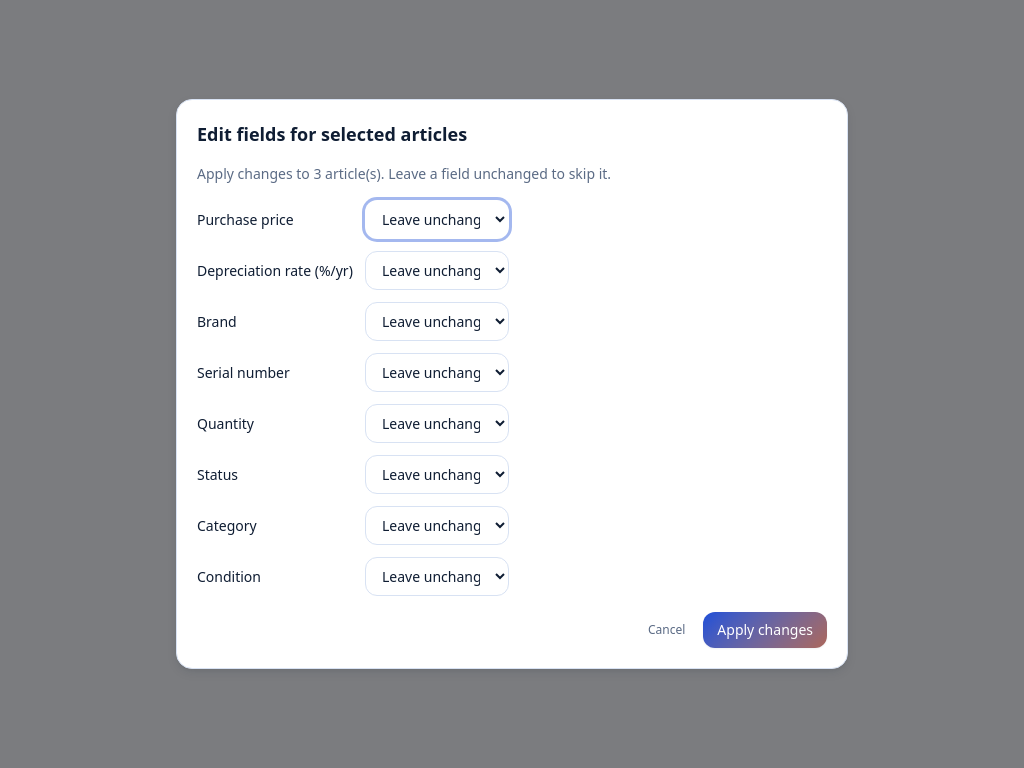
Test case: <BulkEditDialog /> › rejects a blank 'Set to…' field instead of silently writing 0
The image size is (1024, 768).
# Choose "Set to…" for purchase price but leave the value blank.
Select "Set to…" in the dropdown named "Purchase price operation" at (437, 220), box [365,200,509,239]
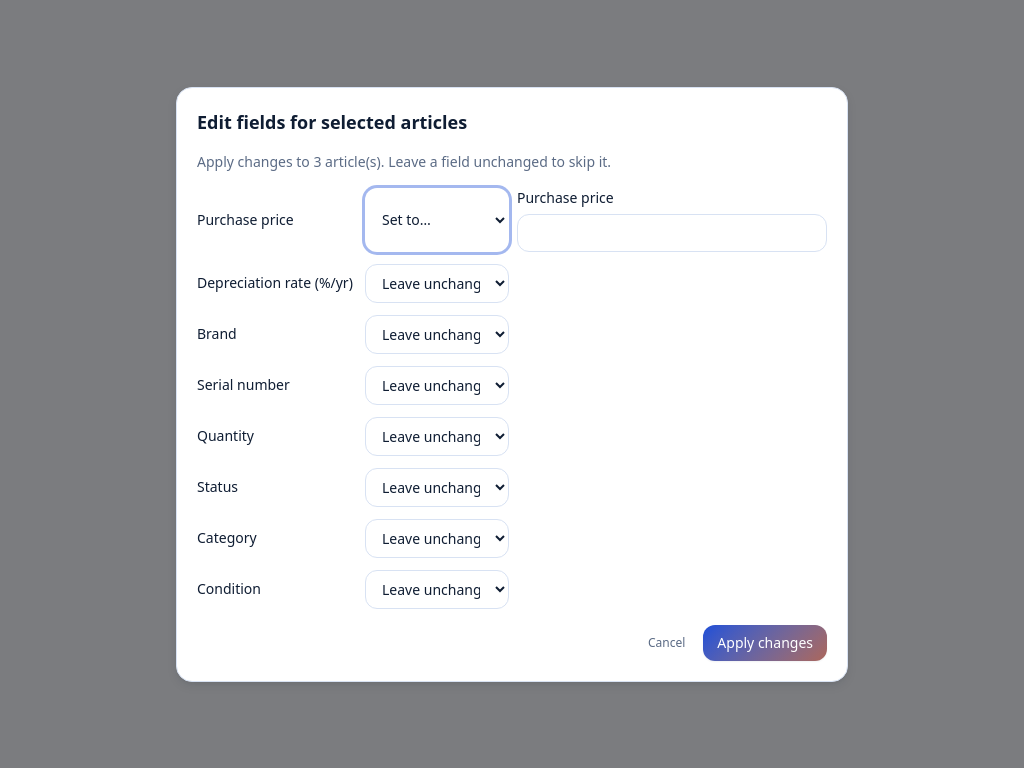
Click the button "Apply changes" at (765, 642), box [703,624,827,660]
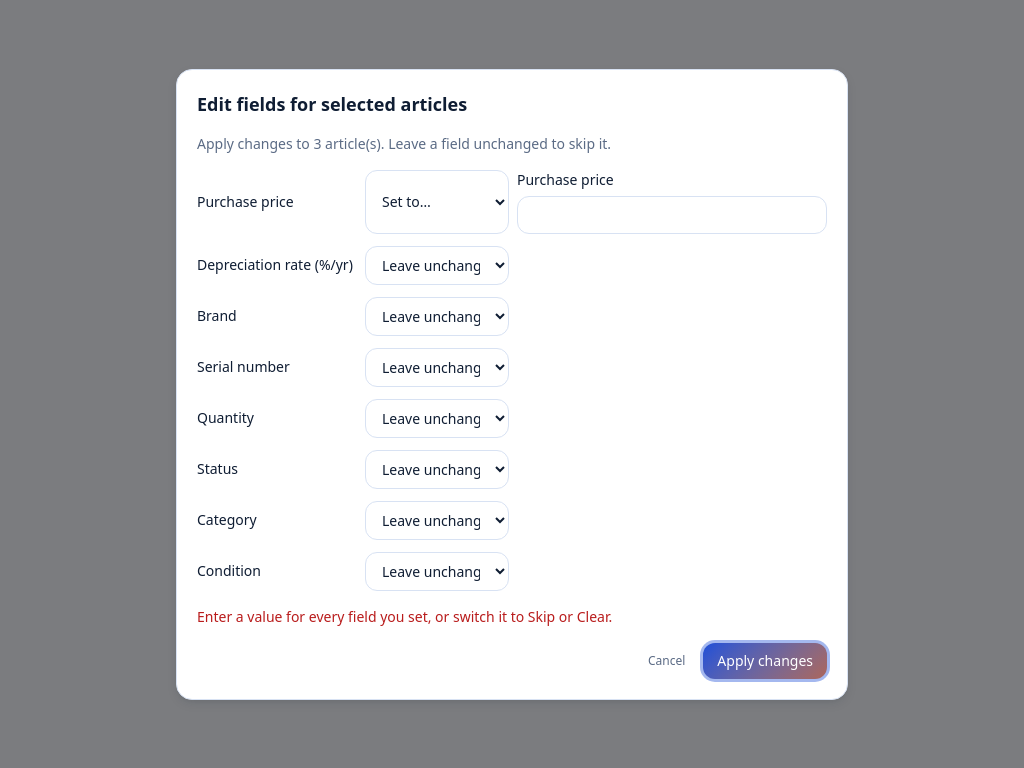
Now the message "Enter a value for every field you set, or switch it to Skip or Clear." is shown, box [197,606,612,626]
